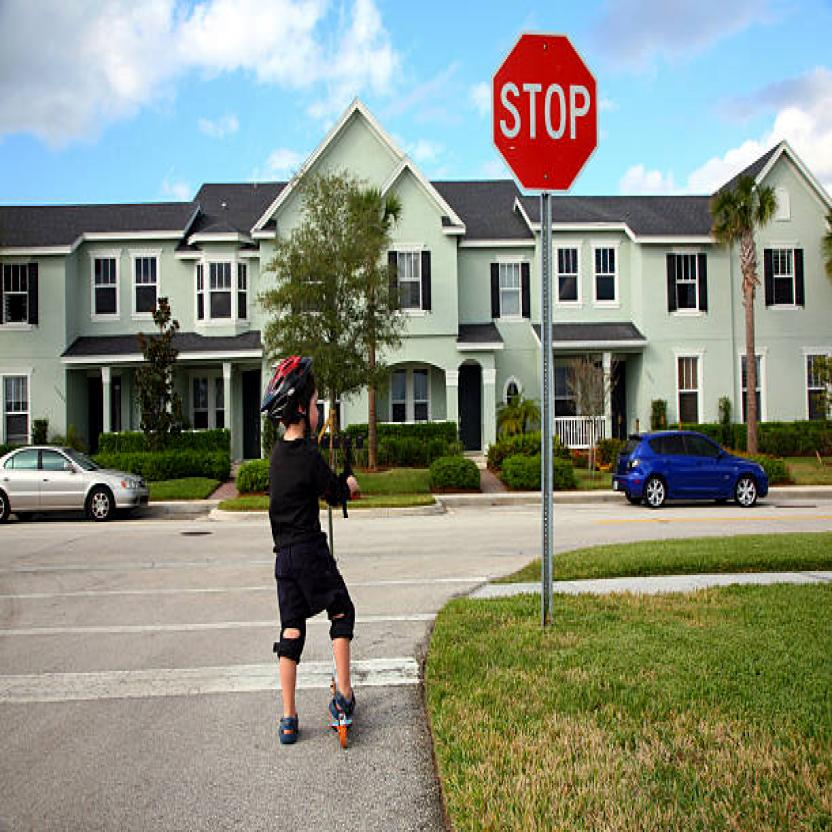Pole: (537, 193, 554, 626)
Sign: (492, 35, 599, 194)
